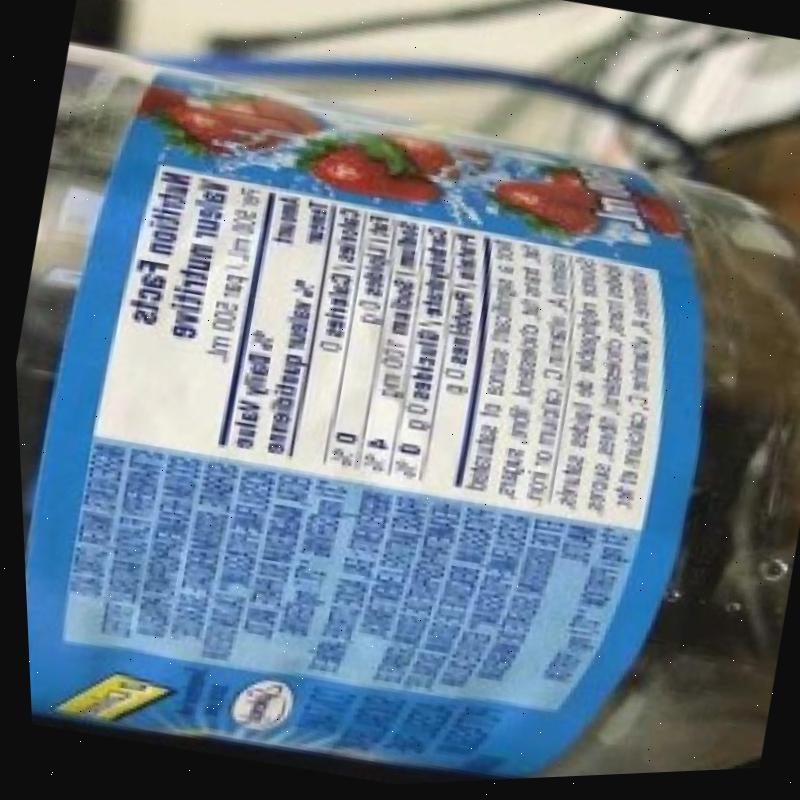botella: (2, 16, 800, 800)
